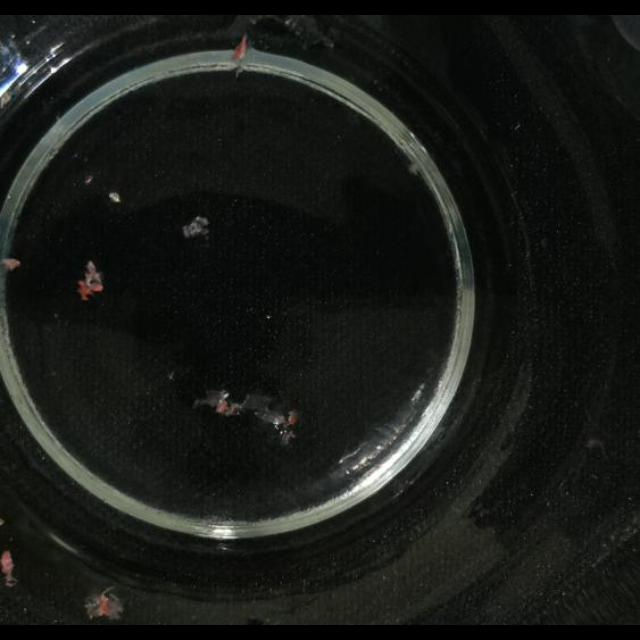Fibre: (178, 218, 214, 245)
Fragment: (196, 386, 300, 444), (82, 578, 124, 624), (223, 20, 254, 76), (76, 256, 104, 302), (0, 547, 20, 591)
